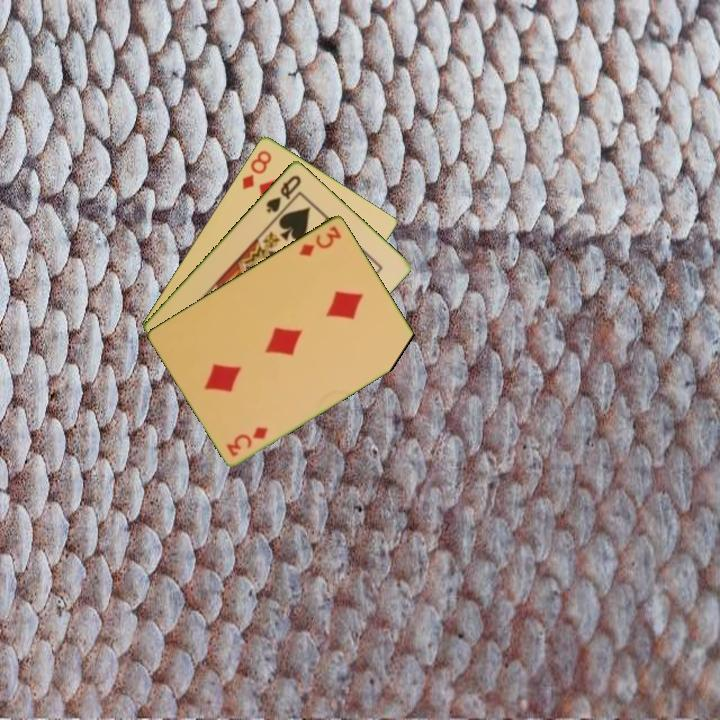3d: (295, 222, 344, 259), (223, 423, 271, 459)
8d: (238, 146, 275, 192)
Qs: (262, 171, 304, 215)
